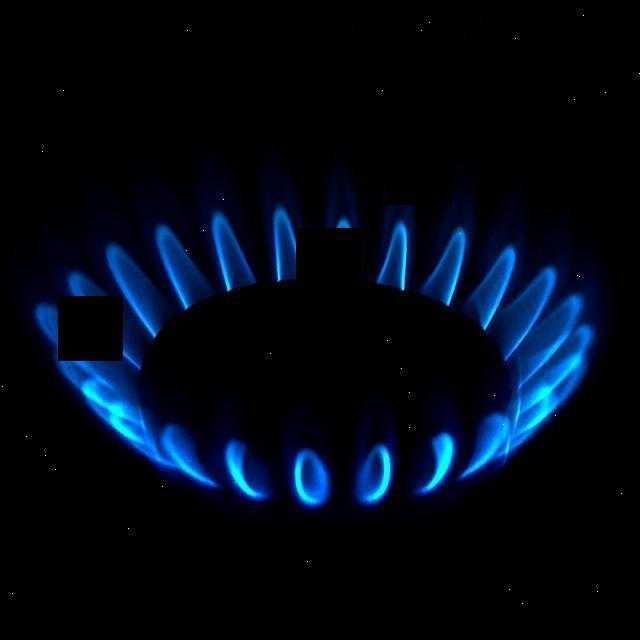Flame: (16, 193, 631, 507)
